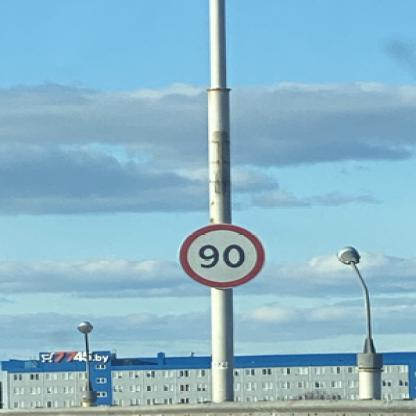speedlimit: (176, 223, 264, 287)
